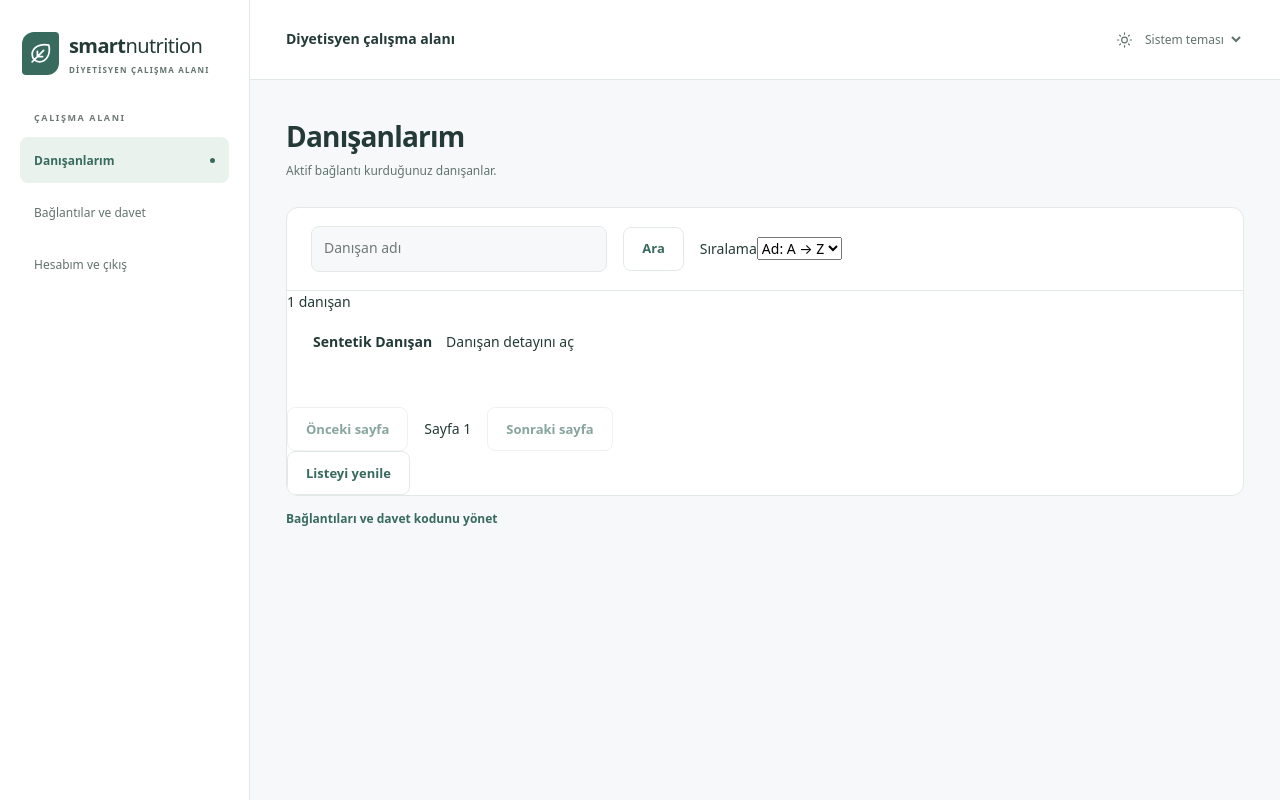
Test: authenticated dietitian workspace › submits server search parameters while clearing the old page
This screenshot has width=1280, height=800.
Expected: the text "Sentetik Danışan" is shown, [313,331,432,353]
Type " Aranan " into the search field at (502, 249), box [409,227,594,271]
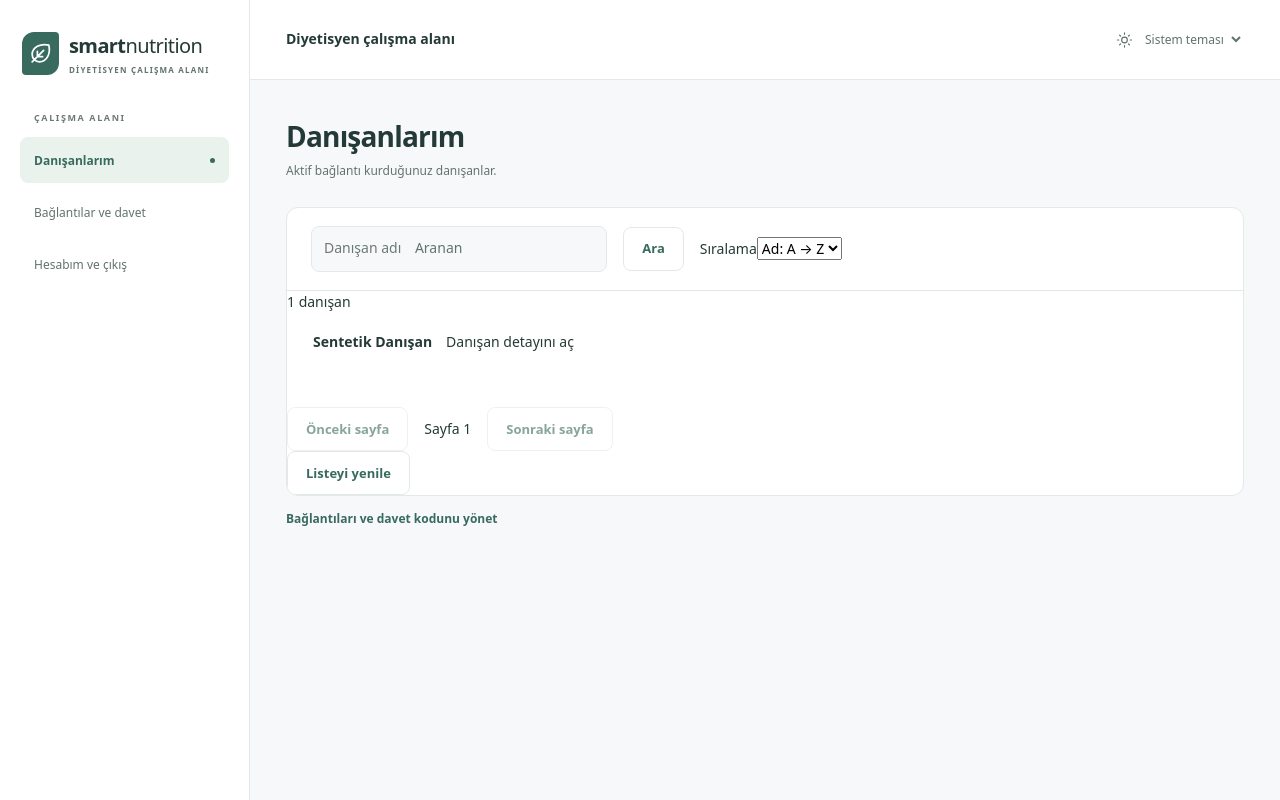
Click the button "Ara" at (654, 249), box [623,227,684,271]
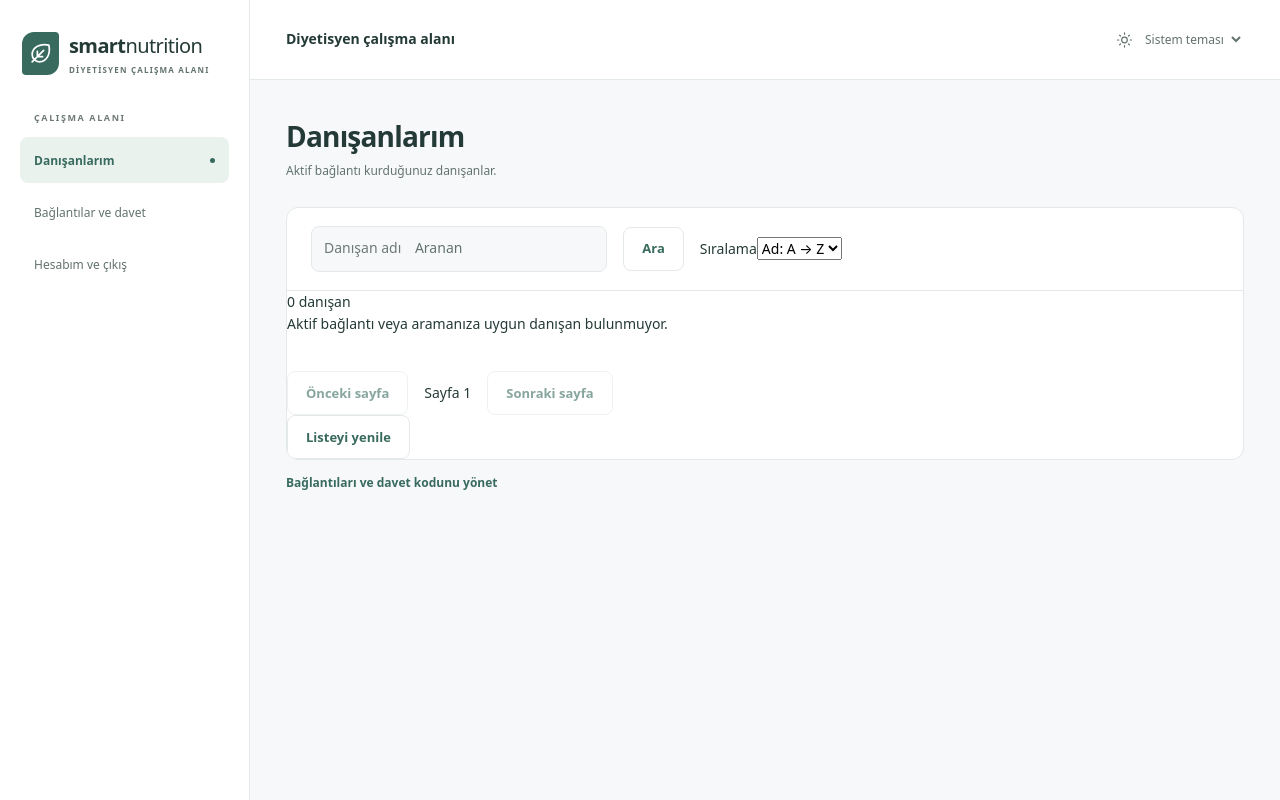
Expected: the text "0 danışan" is shown, [287,292,351,311]
